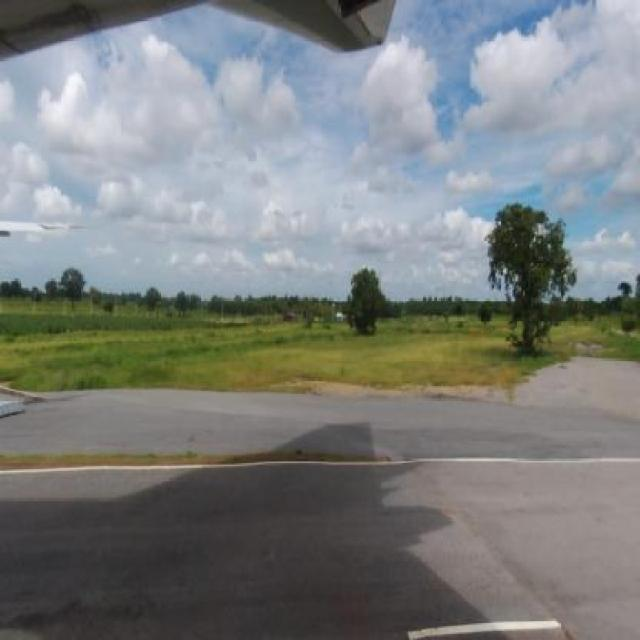Rust: (1, 6, 118, 50)
